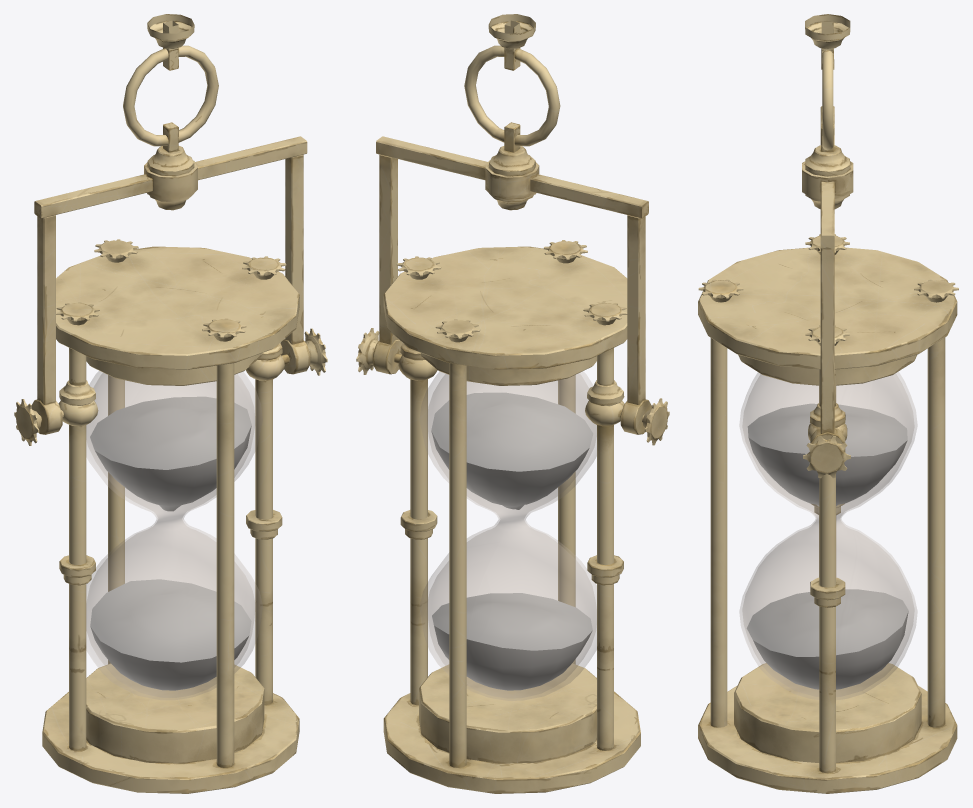
Rendered from Hourglass.fbx.
3 renders of one model, left to right at view 1: azimuth 30°, elevation 25°; view 2: azimuth 150°, elevation 25°; view 3: azimuth 270°, elevation 25°, orthographic.
Parts seen in each view (by area): view 1: Hourgalss, polySurface4988; view 2: Hourgalss, polySurface4988; view 3: Hourgalss, polySurface4988.
Part boxes in pixels (x1,y1,x2,y2): Hourgalss: (14,14,327,793); polySurface4988: (86,371,262,699); Hourgalss: (356,14,669,793); polySurface4988: (420,371,596,700); Hourgalss: (698,14,958,793); polySurface4988: (739,372,917,699).
Bounding box in the file's own units: 119 × 278 × 91.76.
Materials: 3 (2 with a texture image).
